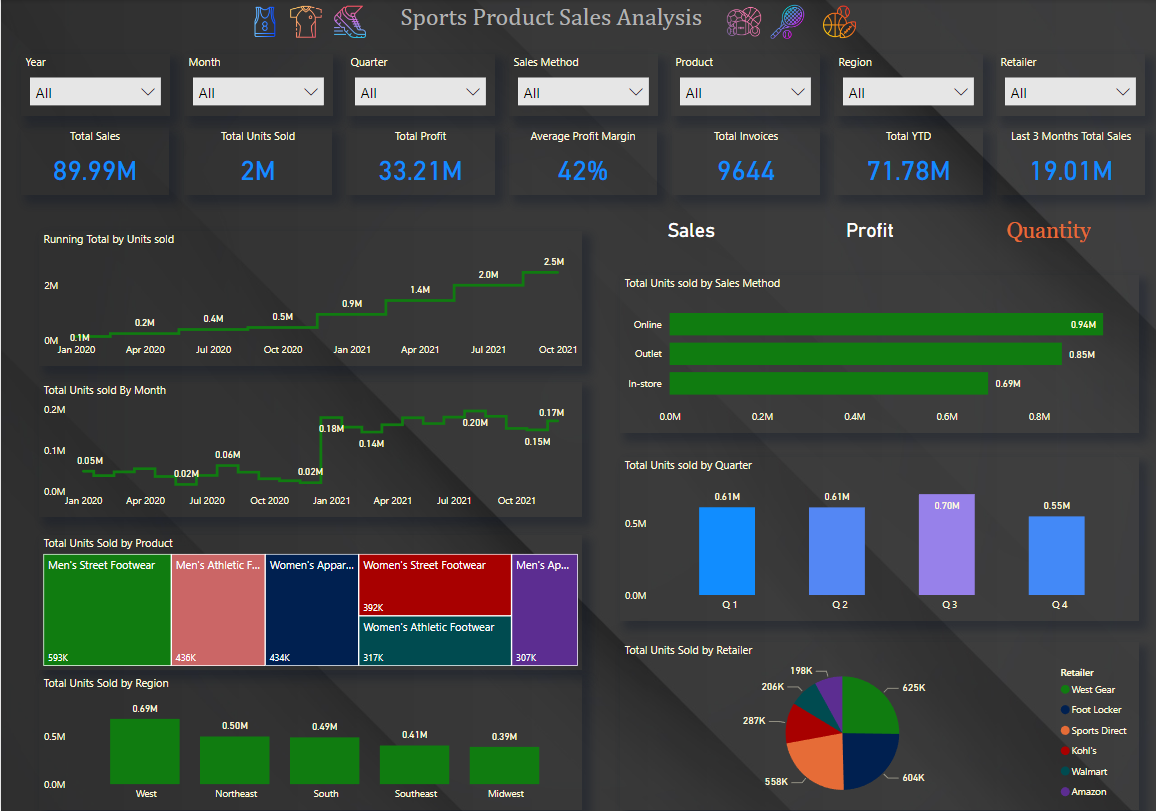

This screenshot's page, from the dashboard's own definition file:
{"tool":"powerbi","page":{"name":"Page 1","canvas":[1280,900],"ordinal":0},"visuals":[{"type":"textbox","box":[437.4,0,406.3,47.6],"z":0},{"type":"slicer","title":"Year","fields":{"Values":["calender.Year"]},"box":[22.2,59.9,165.1,68.7],"z":1000},{"type":"slicer","title":"Month","fields":{"Values":["calender.Month"]},"box":[202.8,59.9,165.1,68.7],"z":2000},{"type":"slicer","title":"Quarter","fields":{"Values":["calender.quarter"]},"box":[382.4,59.9,165.1,68.7],"z":3000},{"type":"slicer","title":"Sales Method","fields":{"Values":["Dim_Sales Method.Sales Method"]},"box":[563.1,59.9,165.1,68.7],"z":4000},{"type":"slicer","title":"Product","fields":{"Values":["Dim_Products.Product"]},"box":[742.6,59.9,165.1,68.7],"z":5000},{"type":"slicer","title":"Region","fields":{"Values":["Dim_Region.Region"]},"box":[923.3,59.9,165.1,68.7],"z":6000},{"type":"slicer","title":"Retailer","fields":{"Values":["Dim_Retailer.Retailer"]},"box":[1102.8,59.9,165.1,68.7],"z":7000},{"type":"card","title":"Total Sales","fields":{"Values":["Sum(Fact_SportProducts.Total Sales)"]},"box":[22.2,141.9,164,74.3],"z":8000},{"type":"card","title":"Total Units Sold","fields":{"Values":["Sum(Fact_SportProducts.Units Sold)"]},"box":[202.8,141.9,164,74.3],"z":9000},{"type":"card","title":"Total Profit","fields":{"Values":["Sum(Fact_SportProducts.Operating Proft)"]},"box":[382.4,141.9,165.1,74.3],"z":10000},{"type":"card","title":"Average Profit Margin","fields":{"Values":["Avg(Fact_SportProducts.Operating Margin)"]},"box":[563.1,141.9,164,74.3],"z":11000},{"type":"card","title":"Total Invoices ","fields":{"Values":["CountNonNull(Fact_SportProducts.Invoice Date)"]},"box":[743.7,141.9,164,74.3],"z":12000},{"type":"card","title":"Total YTD","fields":{"Values":["Measures (2).Total YTD"]},"box":[923.3,141.9,165.1,74.3],"z":13000},{"type":"card","title":"Last 3 Months Total Sales","fields":{"Values":["Measures (2).Last 3 months Sales"]},"box":[1103.9,141.9,164,74.3],"z":14000},{"type":"lineChart","title":"Running Total by Units sold ","fields":{"Category":["calender.Date.Variation.Date Hierarchy.Year","calender.Date.Variation.Date Hierarchy.Quarter","calender.Date.Variation.Date Hierarchy.Month","calender.Date.Variation.Date Hierarchy.Day"],"Y":["Measures (2).Running total units"]},"box":[42.2,256.1,601.8,149.6],"z":32000},{"type":"lineChart","title":"Total Units sold By Month","fields":{"Category":["calender.Date.Variation.Date Hierarchy.Year","calender.Date.Variation.Date Hierarchy.Month"],"Y":["Measures (2).Total Units Sold"]},"box":[42.2,423.4,601.8,149.6],"z":33000},{"type":"treemap","fields":{"Group":["Dim_Products.Product"],"Values":["Measures (2).Total Units Sold"]},"box":[42.2,593,601.8,149.6],"z":34000},{"type":"clusteredColumnChart","fields":{"Category":["Dim_Region.Region"],"Y":["Measures (2).Total Units Sold"]},"box":[42.2,748.2,601.8,149.6],"z":35000},{"type":"columnChart","title":"Total Units sold by Quarter","fields":{"Category":["calender.quarter"],"Y":["Measures (2).Total Units Sold"]},"box":[686.1,506.6,575.2,181.8],"z":36000},{"type":"pieChart","fields":{"Category":["Dim_Retailer.Retailer"],"Y":["Measures (2).Total Units Sold"]},"box":[686.1,711.6,575.2,186.2],"z":37000},{"type":"clusteredBarChart","title":"Total Units sold by Sales Method ","fields":{"Category":["Dim_Sales Method.Sales Method"],"Y":["Measures (2).Total Units Sold"]},"box":[686.1,304.9,575.2,175.1],"z":38000},{"type":"image","box":[240.5,0,103.1,47.7],"z":39000},{"type":"image","box":[286,0,103.1,47.7],"z":40000},{"type":"image","box":[345.8,0,80.9,47.7],"z":41000},{"type":"image","box":[782.5,0,82,47.7],"z":42000},{"type":"image","box":[823.5,0,96.4,47.7],"z":43000},{"type":"image","box":[884.5,0,89.8,47.7],"z":44000},{"type":"bookmarkNavigator","box":[676.1,230.5,575.2,49.9],"z":45000}]}

Visuals, with their boxes in screenshot pixels (x1, y1, x2, y2), scaled from the page's 1280x900 canvas onto the 1156x811 screenshot:
textbox: x1=395, y1=0, x2=762, y2=43
"Year" slicer: x1=20, y1=54, x2=169, y2=116
"Month" slicer: x1=183, y1=54, x2=332, y2=116
"Quarter" slicer: x1=345, y1=54, x2=494, y2=116
"Sales Method" slicer: x1=509, y1=54, x2=658, y2=116
"Product" slicer: x1=671, y1=54, x2=820, y2=116
"Region" slicer: x1=834, y1=54, x2=983, y2=116
"Retailer" slicer: x1=996, y1=54, x2=1145, y2=116
"Total Sales" card: x1=20, y1=128, x2=168, y2=195
"Total Units Sold" card: x1=183, y1=128, x2=331, y2=195
"Total Profit" card: x1=345, y1=128, x2=494, y2=195
"Average Profit Margin" card: x1=509, y1=128, x2=657, y2=195
"Total Invoices " card: x1=672, y1=128, x2=820, y2=195
"Total YTD" card: x1=834, y1=128, x2=983, y2=195
"Last 3 Months Total Sales" card: x1=997, y1=128, x2=1145, y2=195
"Running Total by Units sold " lineChart: x1=38, y1=231, x2=582, y2=366
"Total Units sold By Month" lineChart: x1=38, y1=382, x2=582, y2=516
treemap - Dim_Products.Product x Measures (2).Total Units Sold: x1=38, y1=534, x2=582, y2=669
clusteredColumnChart - Dim_Region.Region x Measures (2).Total Units Sold: x1=38, y1=674, x2=582, y2=809
"Total Units sold by Quarter" columnChart: x1=620, y1=457, x2=1139, y2=620
pieChart - Dim_Retailer.Retailer x Measures (2).Total Units Sold: x1=620, y1=641, x2=1139, y2=809
"Total Units sold by Sales Method " clusteredBarChart: x1=620, y1=275, x2=1139, y2=433
image: x1=217, y1=0, x2=310, y2=43
image: x1=258, y1=0, x2=351, y2=43
image: x1=312, y1=0, x2=385, y2=43
image: x1=707, y1=0, x2=781, y2=43
image: x1=744, y1=0, x2=831, y2=43
image: x1=799, y1=0, x2=880, y2=43
bookmarkNavigator: x1=611, y1=208, x2=1130, y2=253
